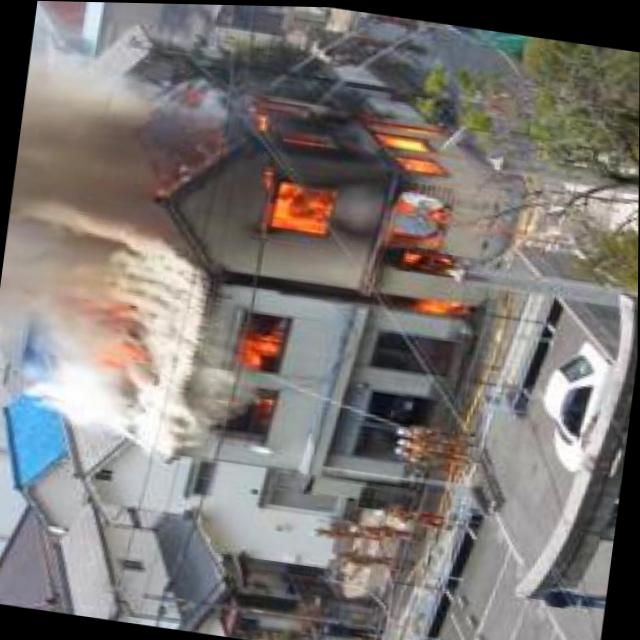Fire: (202, 71, 494, 321), (54, 275, 159, 403), (210, 295, 294, 451)
